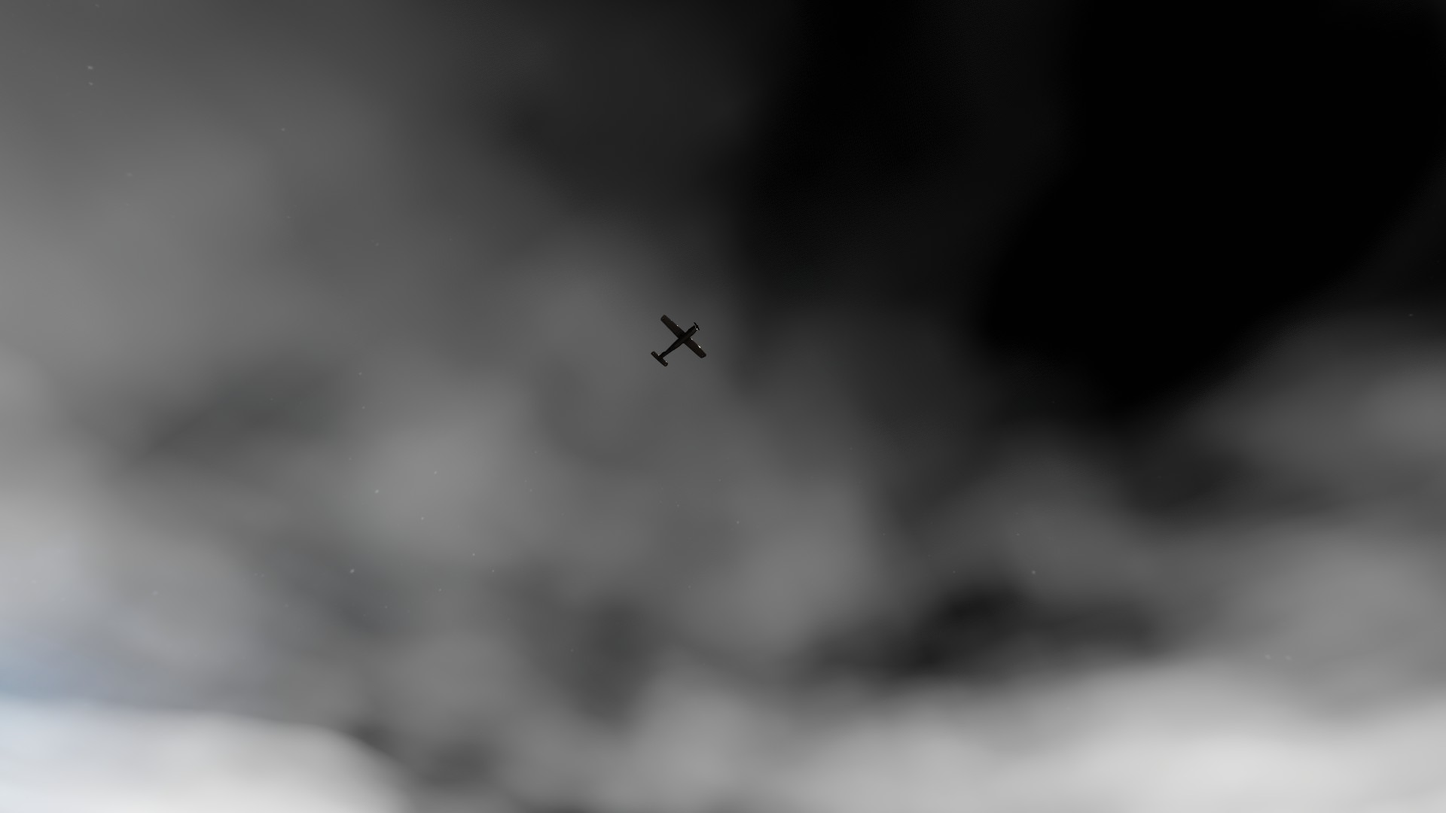drone_other: (651, 315, 707, 367)
